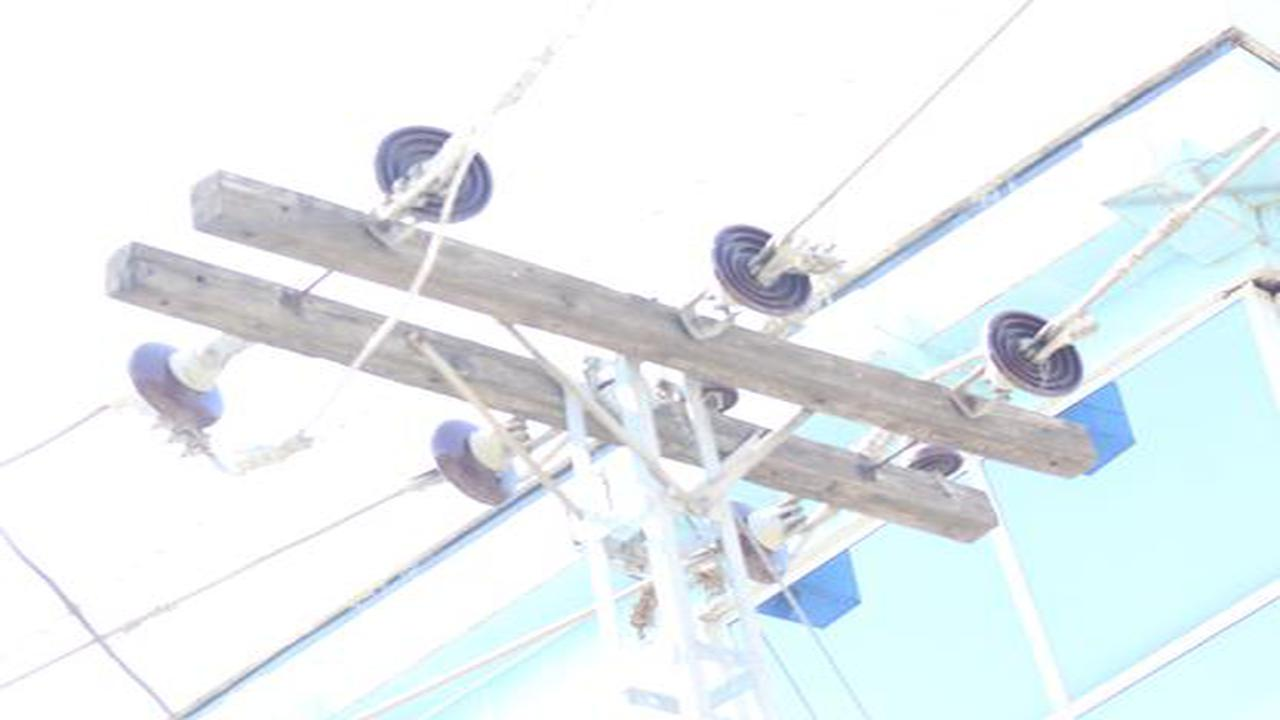insulator_disc: (370, 122, 497, 227), (703, 220, 822, 320), (981, 306, 1091, 403), (126, 335, 228, 434), (424, 410, 526, 509), (732, 489, 802, 589)
